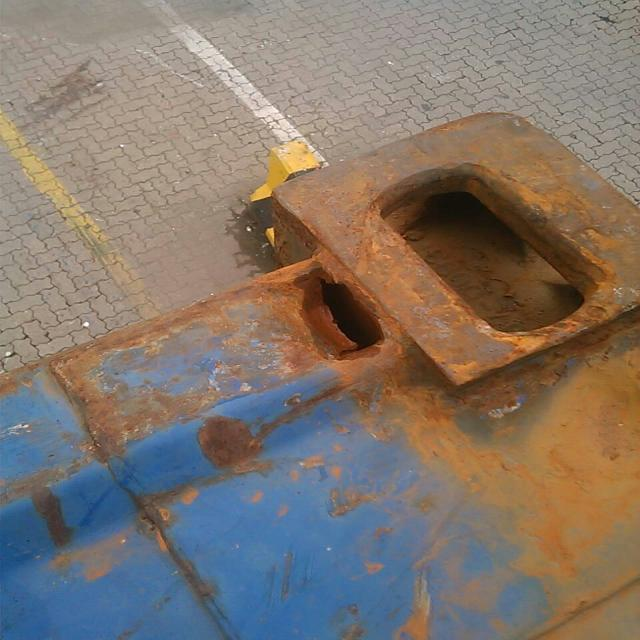rust: (265, 104, 640, 394), (8, 275, 305, 584)
